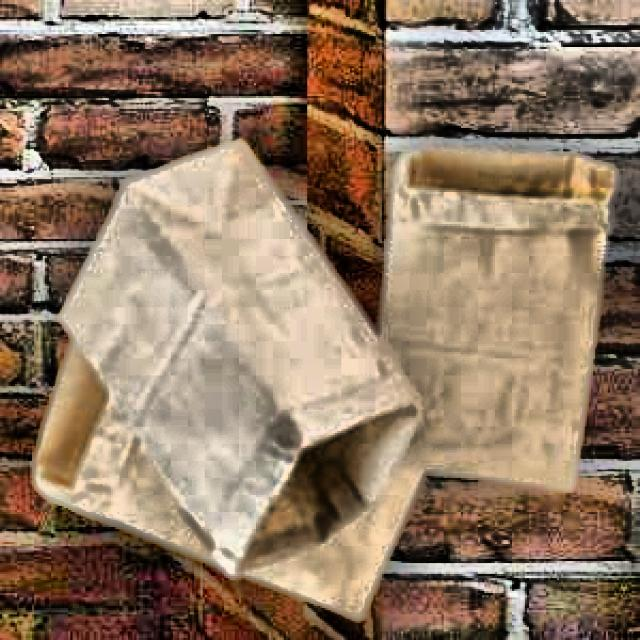Paper-bag: (39, 139, 416, 586), (18, 266, 438, 612), (352, 137, 630, 492)
